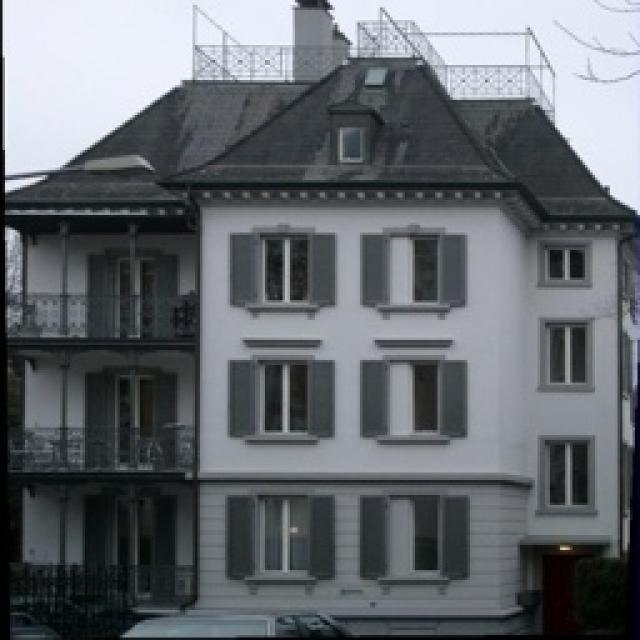building: (25, 35, 640, 640)
